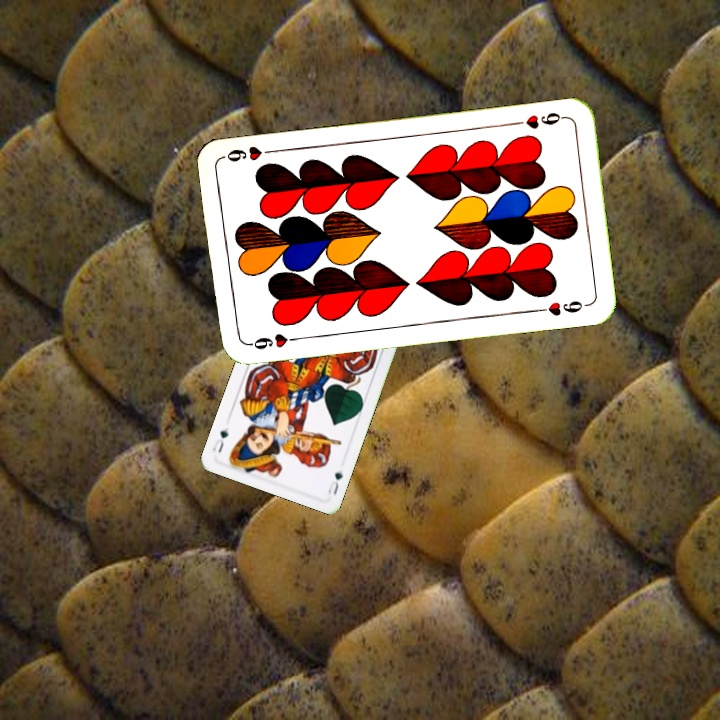GU: (324, 465, 345, 497)
H9: (510, 108, 569, 131), (243, 329, 302, 352)
